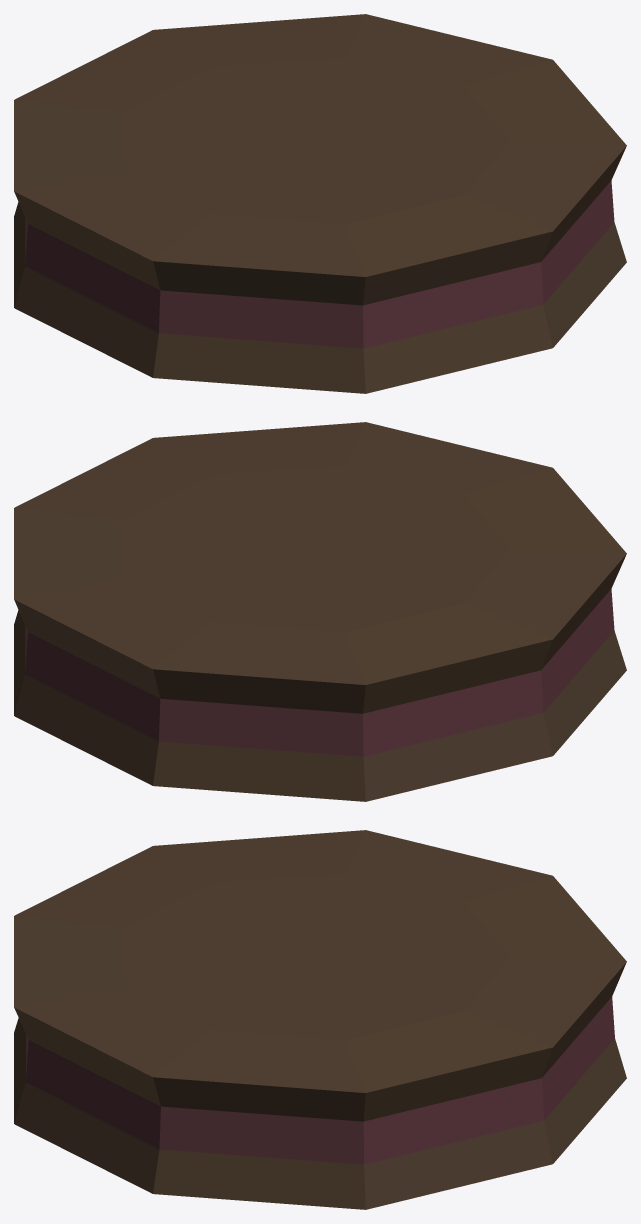
File: food-cookie-oreo.glb
3 views of the same model, one above another, from view 1: azimuth 30°, elevation 25°; view 2: azimuth 150°, elevation 25°; view 3: azimuth 270°, elevation 25° (orthographic).
Visible parts, largest first — view 1: cookie-oreo; view 2: cookie-oreo; view 3: cookie-oreo.
Part boxes in pixels (x1,y1,x2,y2): cookie-oreo: (14, 14, 626, 393); cookie-oreo: (14, 422, 626, 801); cookie-oreo: (14, 830, 626, 1209).
Size of the model in its own units: 0.0985 by 0.0226 by 0.097.
